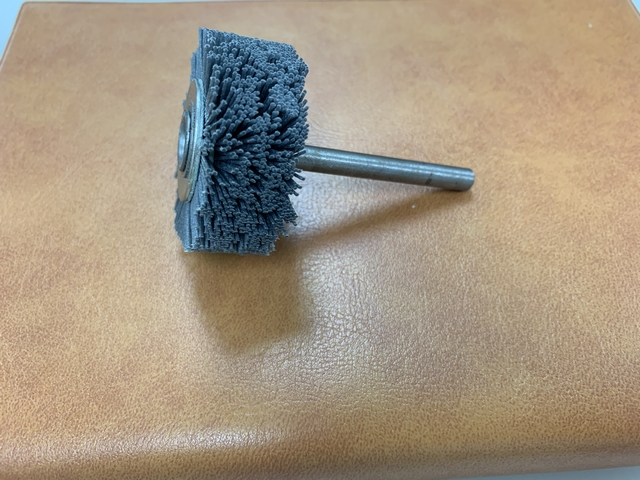Wheel Brush: (109, 12, 523, 311), (167, 27, 483, 254), (176, 32, 485, 234)
